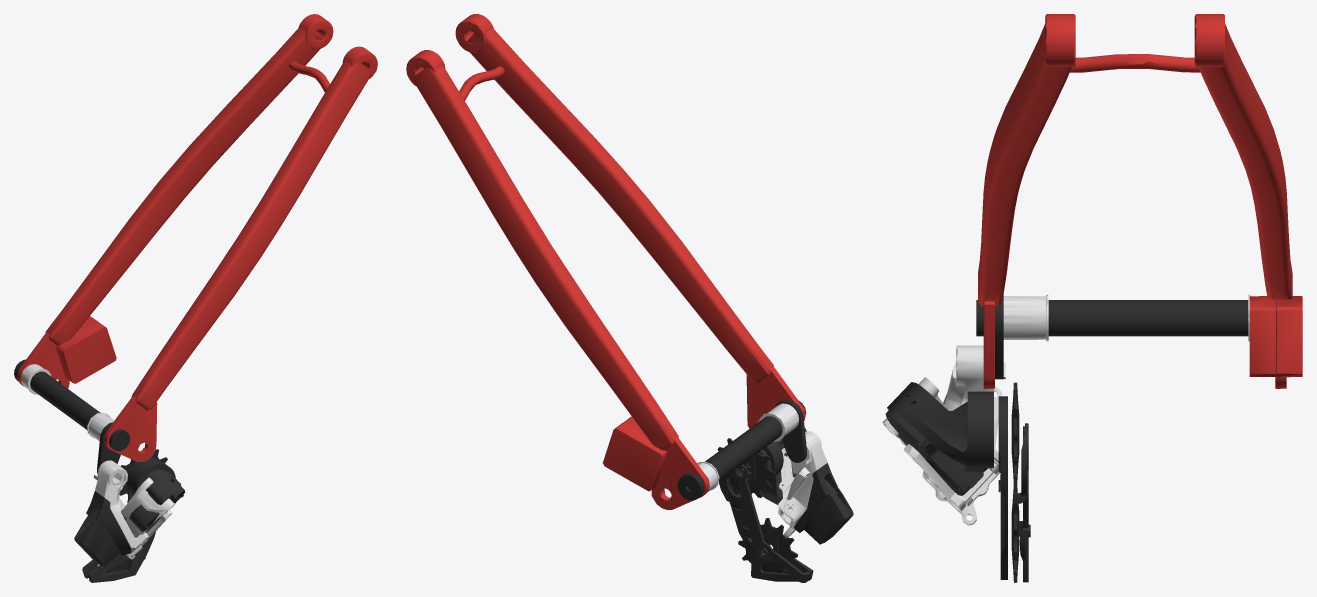
Rendered from dh_seatstay.glb.
3 renders of one model, left to right at view 1: azimuth 30°, elevation 25°; view 2: azimuth 150°, elevation 25°; view 3: azimuth 270°, elevation 25°, orthographic. The views are drawn at different scales.
Parts seen in each view (by area): view 1: seatstay; view 2: seatstay; view 3: seatstay.
Boxes of the visible parts, bbox=[...] form: seatstay: bbox=[14, 14, 377, 582]; seatstay: bbox=[406, 14, 853, 582]; seatstay: bbox=[882, 14, 1302, 582].
Bounding box in the file's own units: 0.332 × 0.4476 × 0.222.
